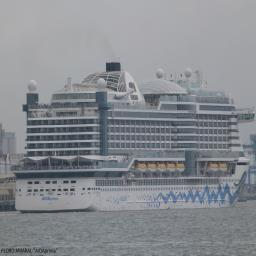cruises: (18, 51, 250, 213)
